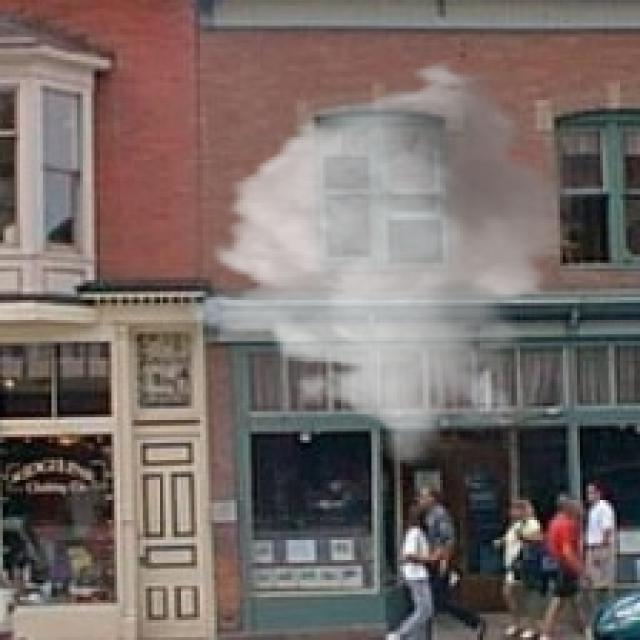Smoke: (186, 57, 594, 466)
